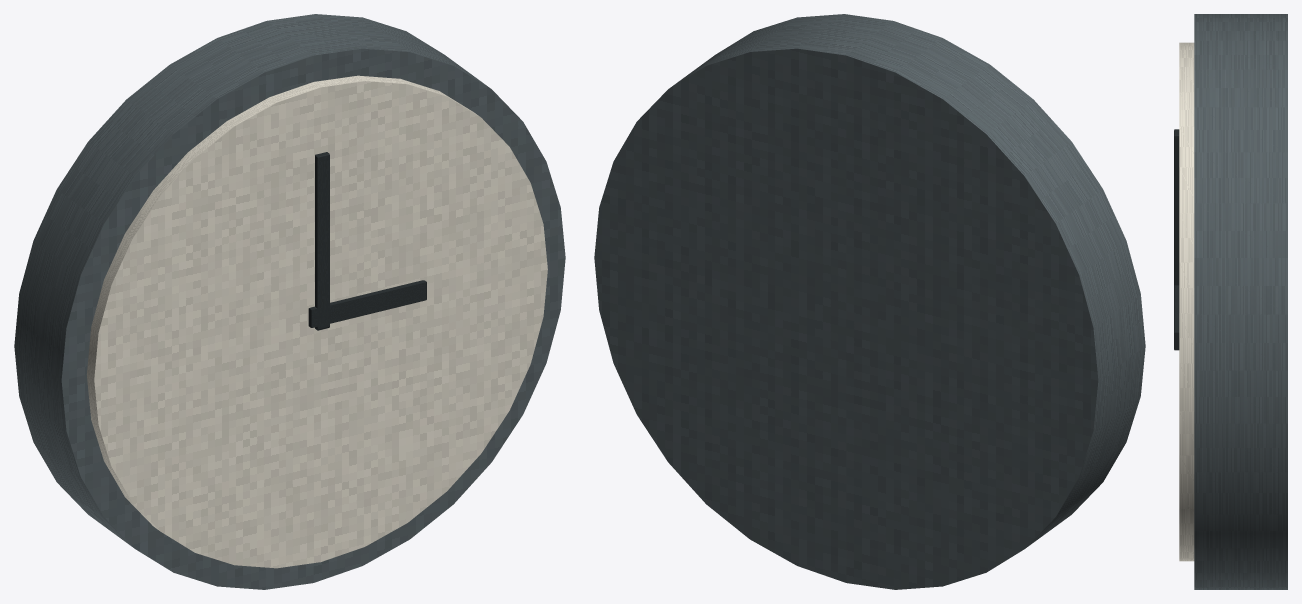
Rendered from wet-clock.glb.
3 renders of one model, left to right at view 1: azimuth 30°, elevation 25°; view 2: azimuth 150°, elevation 25°; view 3: azimuth 270°, elevation 25°, orthographic.
Visible parts, largest first — view 1: face, rim, minute, hour; view 2: rim; view 3: rim, face, minute, hour.
Part boxes in pixels (x1=…): face: x1=86, y1=75, x2=547, y2=568; rim: x1=14, y1=14, x2=565, y2=589; minute: x1=315, y1=152, x2=329, y2=330; hour: x1=308, y1=280, x2=426, y2=327; rim: x1=594, y1=14, x2=1145, y2=589; rim: x1=1194, y1=14, x2=1287, y2=589; face: x1=1179, y1=42, x2=1194, y2=561; minute: x1=1174, y1=129, x2=1179, y2=285; hour: x1=1174, y1=285, x2=1179, y2=350.
Bounding box in the file's own units: 0.28 × 0.28 × 0.0553.
3 materials, 3 textured.
